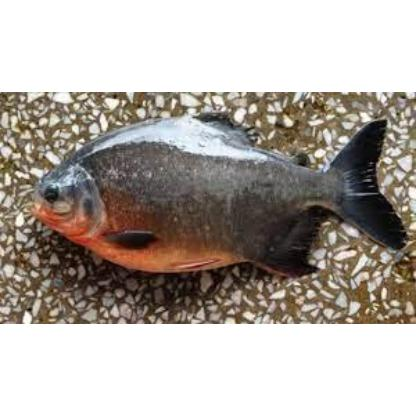ikan-pacu: (31, 108, 376, 272)
